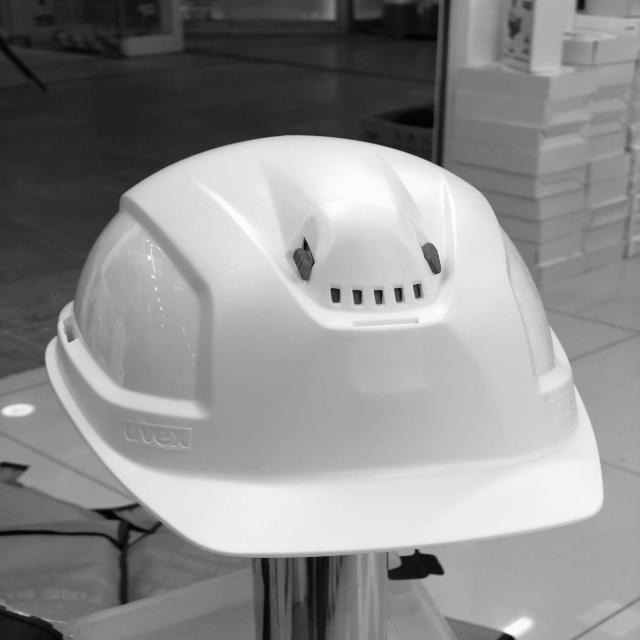safety_helmet: (43, 136, 605, 561)
